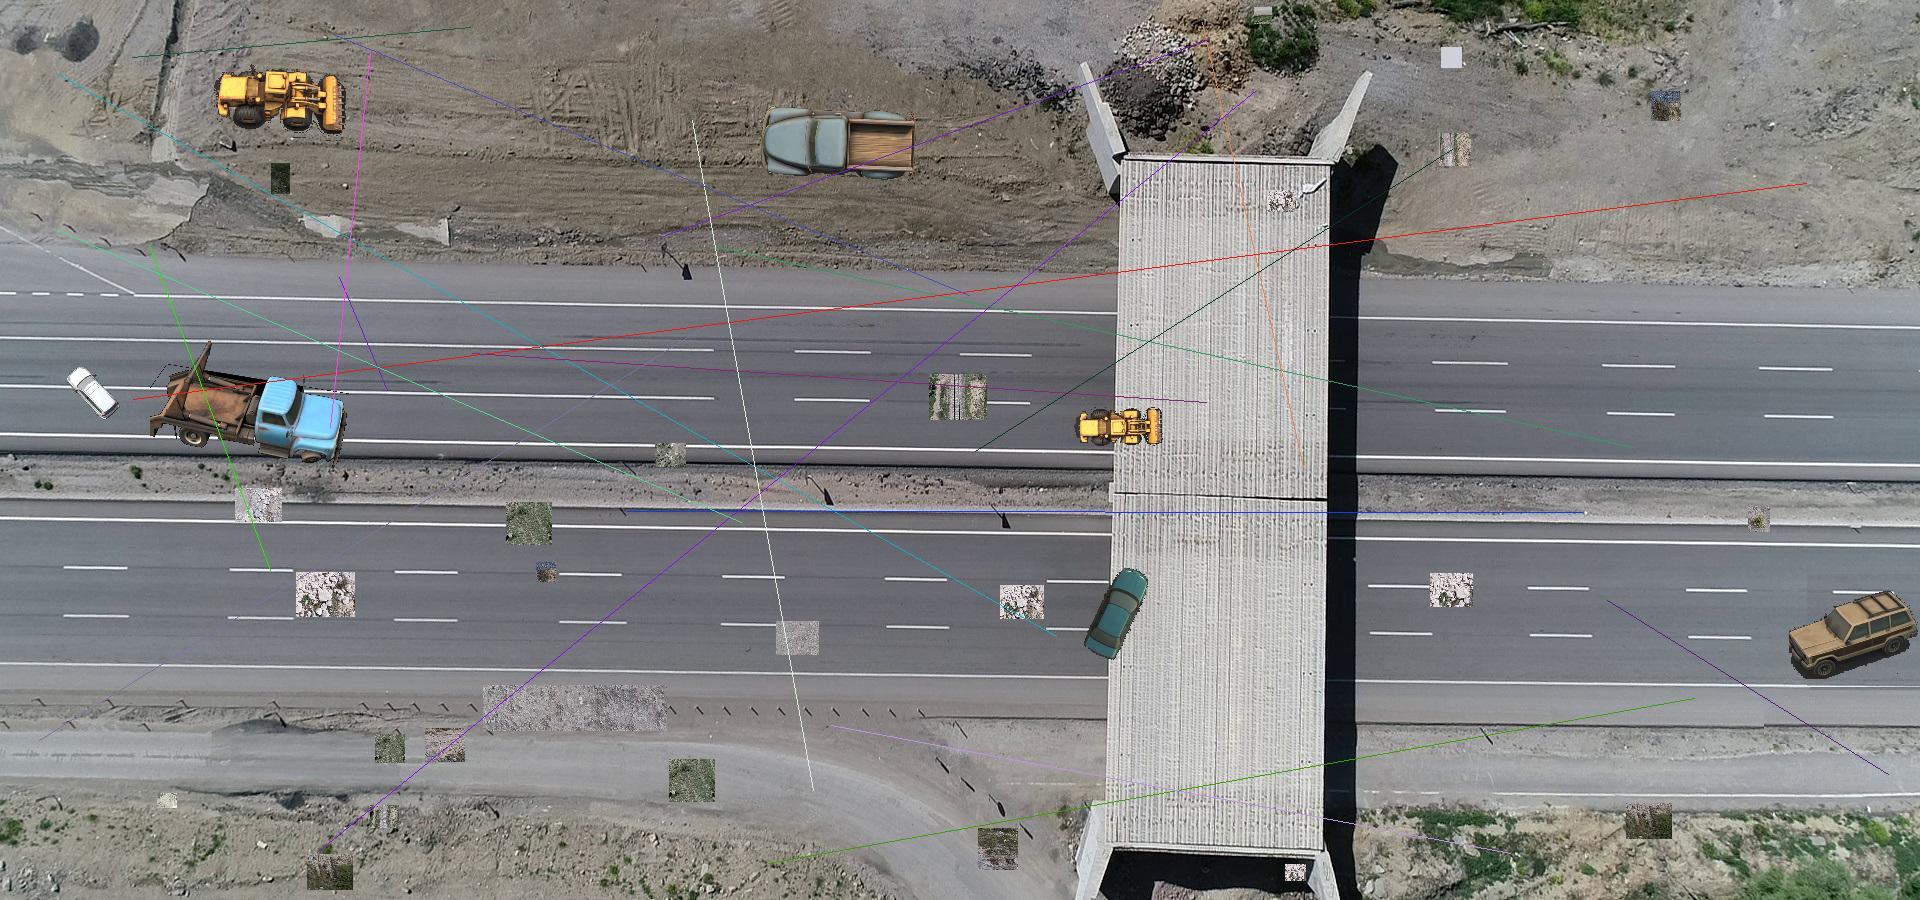arac: (149, 340, 350, 468), (208, 50, 356, 146), (760, 107, 917, 182), (1789, 588, 1918, 680), (1081, 564, 1149, 661), (1073, 405, 1164, 447), (65, 361, 121, 420)
